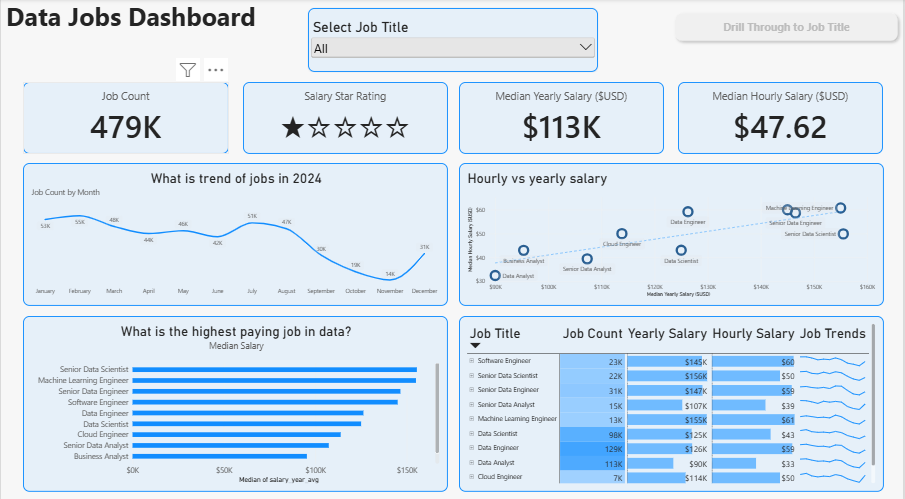

The dashboard page shown, as its layout file describes it:
{"tool":"powerbi","page":{"name":"Data Jobs Dashboard","canvas":[1920,1080],"ordinal":0},"visuals":[{"type":"textbox","box":[10.6,0,1909.1,82.9],"z":0},{"type":"slicer","fields":{"Values":["job_postings_flat.job_title_short"]},"box":[650.6,14.9,616.5,136.1],"z":1000},{"type":"cardVisual","fields":{"Data":["Median(job_postings_flat.salary_year_avg)"]},"box":[973.7,172.2,435.8,189.2],"z":2000},{"type":"cardVisual","fields":{"Data":["Median(job_postings_flat.salary_hour_avg)"]},"box":[1441.4,172.2,435.8,189.2],"z":3000},{"type":"cardVisual","fields":{"Data":["job_postings_flat.Salary Star Rating"]},"box":[514.5,172.2,435.8,189.2],"z":4000},{"type":"cardVisual","fields":{"Data":["CountNonNull(job_postings_flat.job_title_short)"]},"box":[46.8,172.2,438,189.2],"z":5000},{"type":"lineChart","title":"What is trend of jobs in 2024","fields":{"Category":["job_postings_flat.job_posted_date.Variation.Date Hierarchy.Year","job_postings_flat.job_posted_date.Variation.Date Hierarchy.Quarter","job_postings_flat.job_posted_date.Variation.Date Hierarchy.Month","job_postings_flat.job_posted_date.Variation.Date Hierarchy.Day"],"Y":["CountNonNull(job_postings_flat.job_title_short)"]},"box":[46.8,382.8,903.5,304],"z":6000},{"type":"barChart","title":"What is the highest paying job in data?","fields":{"Category":["job_postings_flat.job_title_short"],"Y":["CountNonNull(job_postings_flat.job_title_short)"]},"box":[46.8,703.8,903.5,350.8],"z":7000},{"type":"scatterChart","title":"Hourly vs yearly salary","fields":{"Series":["job_postings_flat.job_title_short"],"X":["Median(job_postings_flat.salary_year_avg)"],"Y":["Median(job_postings_flat.salary_hour_avg)"]},"box":[973.7,382.8,903.5,304],"z":8000},{"type":"pivotTable","fields":{"Rows":["job_postings_flat.job_title_short","job_postings_flat.job_posted_date.Variation.Date Hierarchy.Quarter"],"Values":["CountNonNull(job_postings_flat.job_title_short)","Median(job_postings_flat.salary_year_avg)","Median(job_postings_flat.salary_hour_avg)","SparklineData(CountNonNull(job_postings_flat.job_title_short)_[job_postings_flat.job_posted_date.Variation.Date Hierarch"]},"box":[973.7,703.8,903.5,350.8],"z":9000},{"type":"actionButton","title":"Job Title Drill Through","box":[1424.4,12.8,495.4,80.8],"z":10000}]}

Visuals, with their boxes in screenshot pixels (x1, y1, x2, y2), scaled from the page's 1920x1080 canvas onto the 905x499 screenshot:
textbox: l=5, t=0, r=904, b=38
slicer - job_postings_flat.job_title_short: l=307, t=7, r=597, b=70
cardVisual - Median(job_postings_flat.salary_year_avg): l=459, t=80, r=664, b=167
cardVisual - Median(job_postings_flat.salary_hour_avg): l=679, t=80, r=885, b=167
cardVisual - job_postings_flat.Salary Star Rating: l=243, t=80, r=448, b=167
cardVisual - CountNonNull(job_postings_flat.job_title_short): l=22, t=80, r=229, b=167
"What is trend of jobs in 2024" lineChart: l=22, t=177, r=448, b=317
"What is the highest paying job in data?" barChart: l=22, t=325, r=448, b=487
"Hourly vs yearly salary" scatterChart: l=459, t=177, r=885, b=317
pivotTable - job_postings_flat.job_title_short x job_postings_flat.job_posted_date.Variation.Date Hierarchy.Quarter: l=459, t=325, r=885, b=487
"Job Title Drill Through" actionButton: l=671, t=6, r=904, b=43
